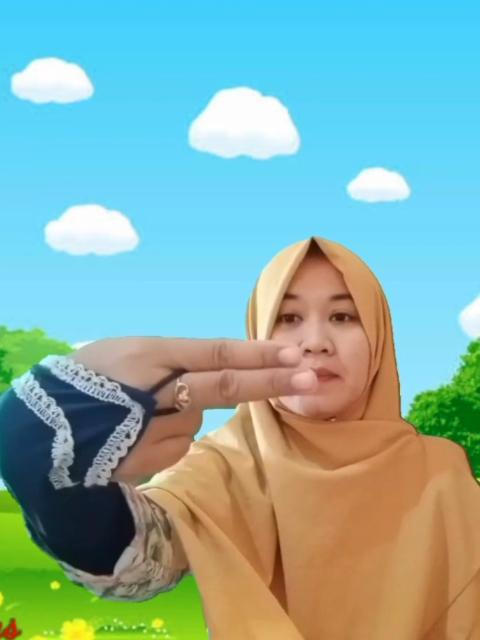H: (0, 332, 322, 488)
